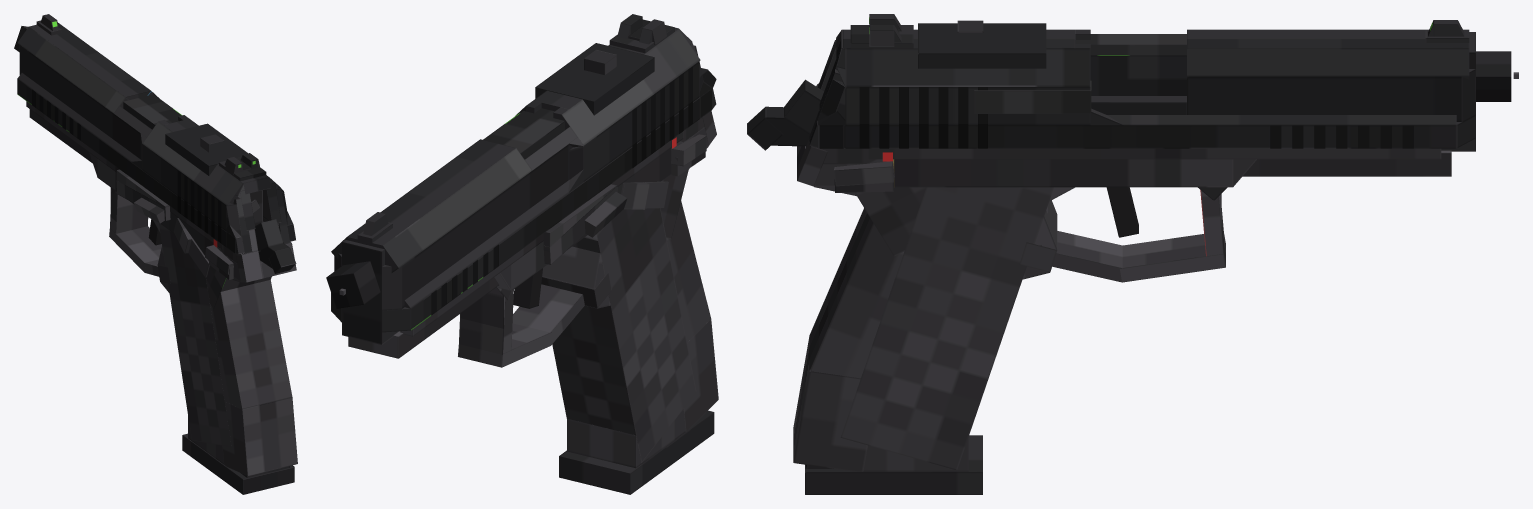
The picture shows the model from 3 angles, left to right: view 1: azimuth 30°, elevation 25°; view 2: azimuth 150°, elevation 25°; view 3: azimuth 270°, elevation 25°; orthographic projection. The views are drawn at different scales.
Parts seen in each view (by area): view 1: gun, slide, sightmount, magazine, hammer; view 2: gun, slide, magazine, sightmount, _cb_scope; view 3: gun, slide, sightmount, magazine, hammer.
Part boxes in pixels (bbox=[...]): gun: bbox=[14, 26, 297, 475]; slide: bbox=[17, 14, 295, 254]; sightmount: bbox=[165, 123, 247, 175]; magazine: bbox=[182, 433, 294, 494]; hammer: bbox=[255, 219, 296, 273]; gun: bbox=[326, 108, 718, 468]; slide: bbox=[331, 14, 716, 344]; magazine: bbox=[559, 410, 714, 494]; sightmount: bbox=[535, 43, 654, 115]; _cb_scope: bbox=[584, 50, 616, 74]; gun: bbox=[793, 34, 1511, 471]; slide: bbox=[809, 14, 1475, 151]; sightmount: bbox=[918, 23, 1046, 68]; magazine: bbox=[805, 435, 982, 494]; hammer: bbox=[747, 79, 823, 150].
Bounding box in the file's own units: 29.42 × 122 × 188.
